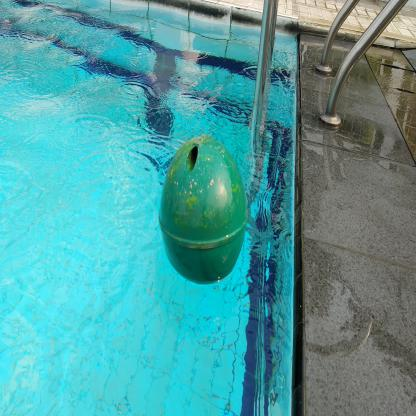green_buoy: (156, 132, 250, 286)
